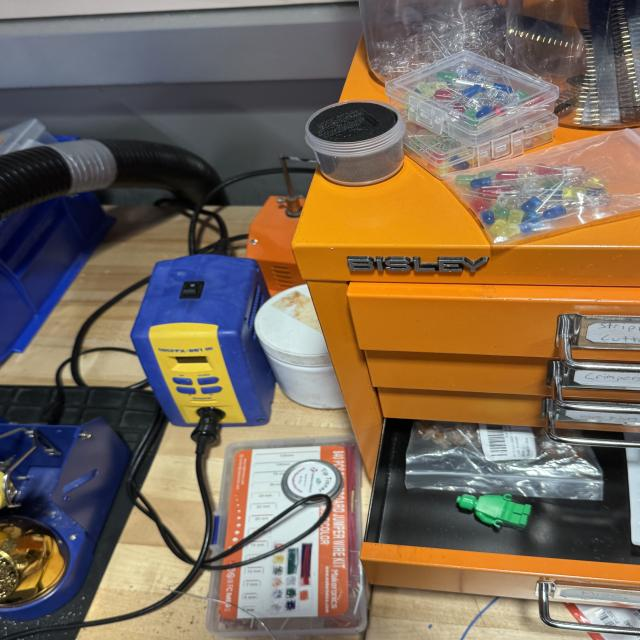Green Mini Figure: (456, 494, 531, 529)
